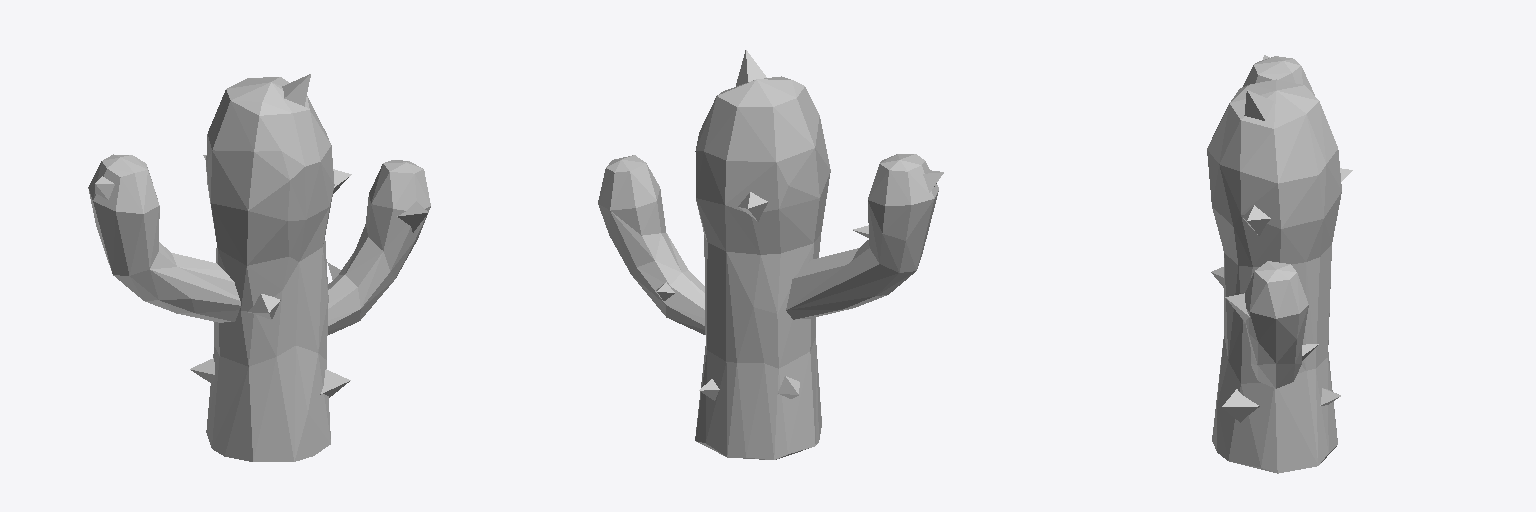
Rendered from big_cactus.obj.
3 views of the same model, side by side, from view 1: azimuth 30°, elevation 25°; view 2: azimuth 150°, elevation 25°; view 3: azimuth 270°, elevation 25° (orthographic).
Visible parts, largest first — view 1: polySurface113; view 2: polySurface113; view 3: polySurface113.
Boxes of the visible parts, <box> form: polySurface113: <box>88,74,430,461</box>; polySurface113: <box>598,50,943,459</box>; polySurface113: <box>1207,55,1352,473</box>.
Size of the model in its own units: 5.89 by 6.18 by 2.21.